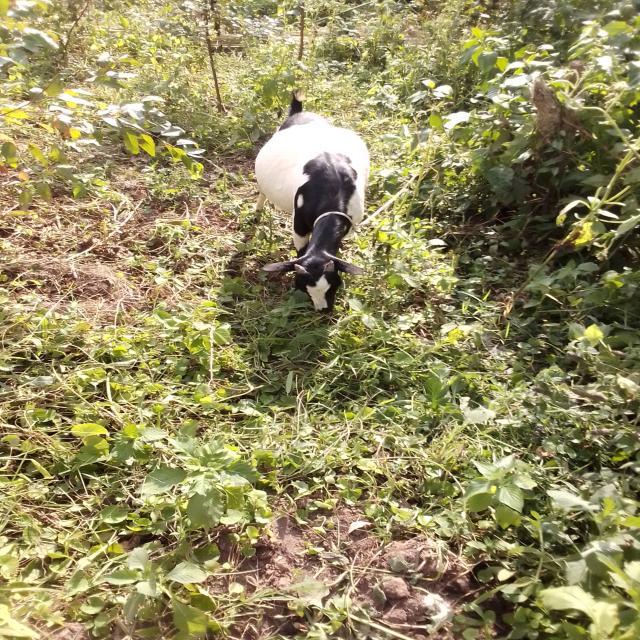goat: (219, 71, 417, 340)
